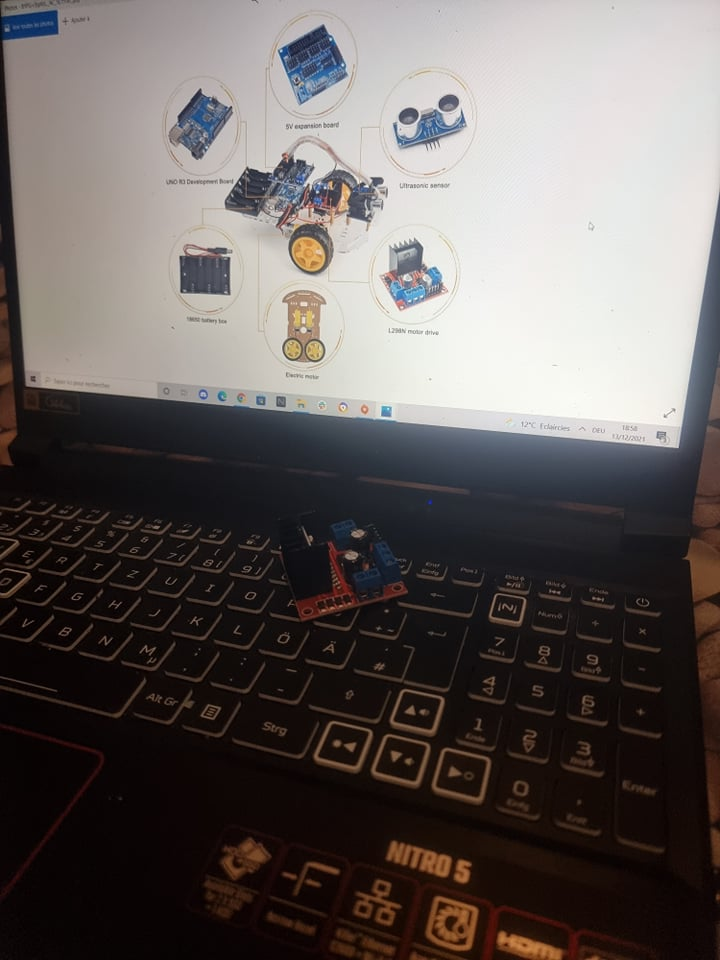5V EXPANSION: (275, 22, 352, 106), (268, 153, 314, 185)
BATTERY BOX: (223, 164, 267, 216), (177, 255, 229, 295)
MOTOR: (275, 504, 406, 624), (380, 238, 447, 313), (310, 177, 342, 208)
SENSOR: (393, 92, 467, 146), (370, 182, 391, 216)
UNO R3: (167, 89, 232, 161), (263, 184, 307, 214)
